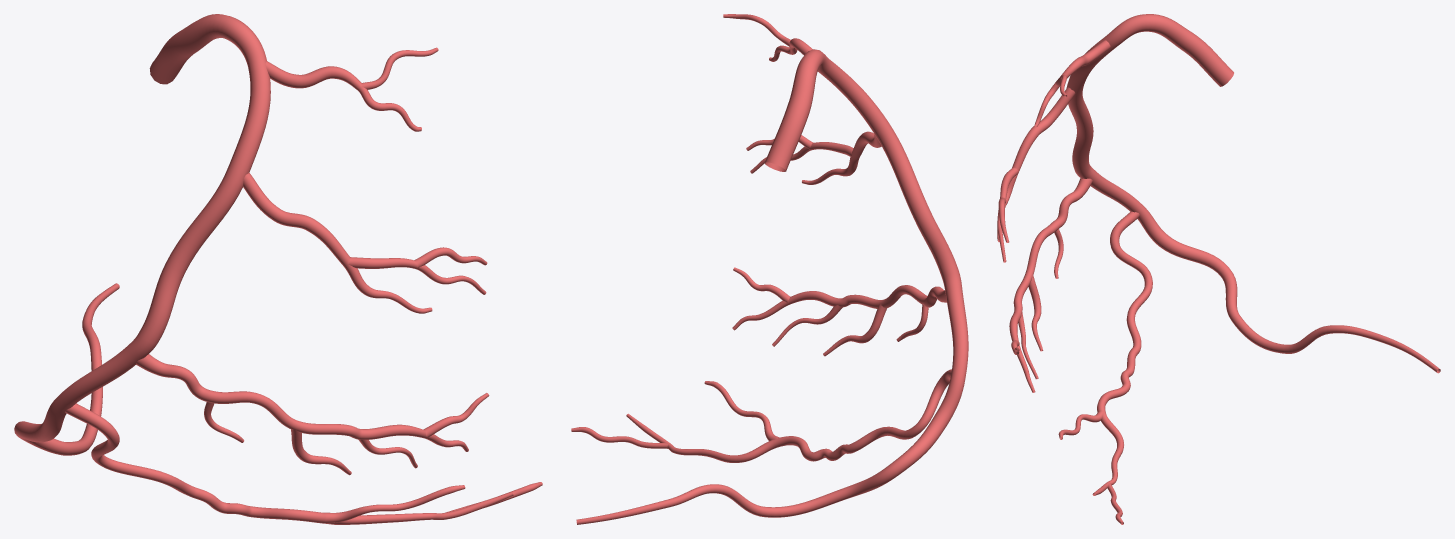
File: Right_coronary_artery.glb
The picture shows the model from 3 angles, left to right: view 1: azimuth 30°, elevation 25°; view 2: azimuth 150°, elevation 25°; view 3: azimuth 270°, elevation 25°; orthographic projection. The views are drawn at different scales.
Visible parts, largest first — view 1: Right_coronary_artery_BezierCurve.452; view 2: Right_coronary_artery_BezierCurve.452; view 3: Right_coronary_artery_BezierCurve.452.
Boxes of the visible parts, left/top/right/bottom form: Right_coronary_artery_BezierCurve.452: left=14, top=14, right=542, bottom=524; Right_coronary_artery_BezierCurve.452: left=571, top=14, right=968, bottom=524; Right_coronary_artery_BezierCurve.452: left=997, top=14, right=1440, bottom=524.
Bounding box in the file's own units: 0.0805 × 0.0861 × 0.0858.
